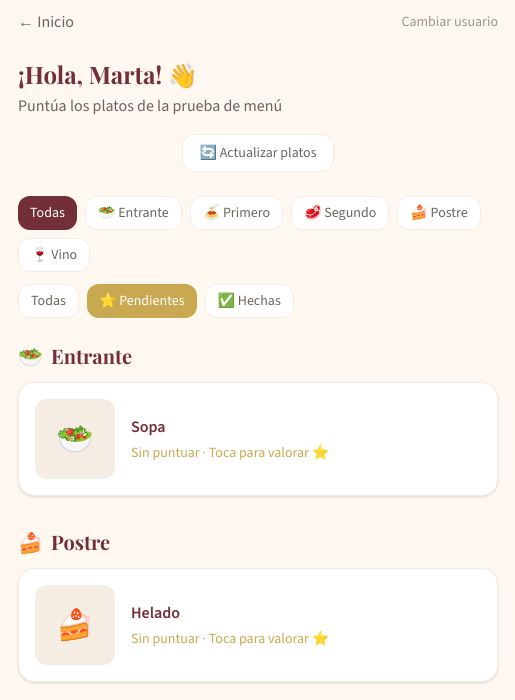
Test: GuestDashboard › category filter shows only dishes of that category
Expected: the text "Sopa" is shown, [131,416,166,437]
The filter button is the one in the flex-wrap gap-2 container
Click the button "🍰 Postre" at point(439, 213), box [397,196,481,230]
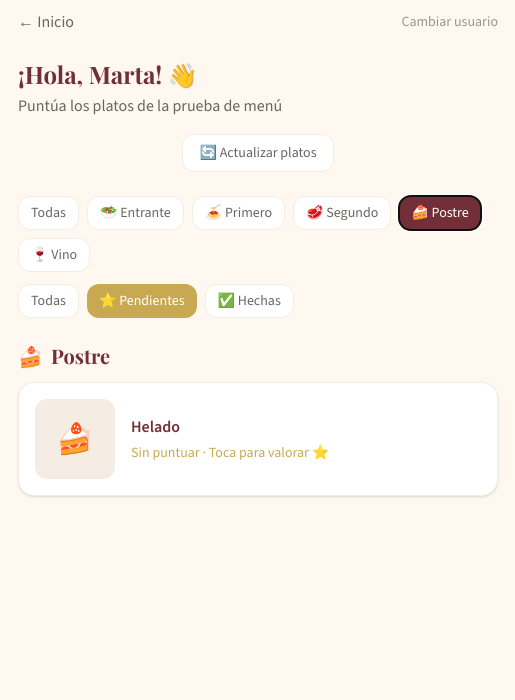
Expected: the text "Helado" is shown, [131,416,180,437]
Result: the button "Sopa" is gone
Click on Todas to reset - get first "Todas" which is the category filter
Click the 1st button "Todas" at point(48, 213), box [18,196,79,230]
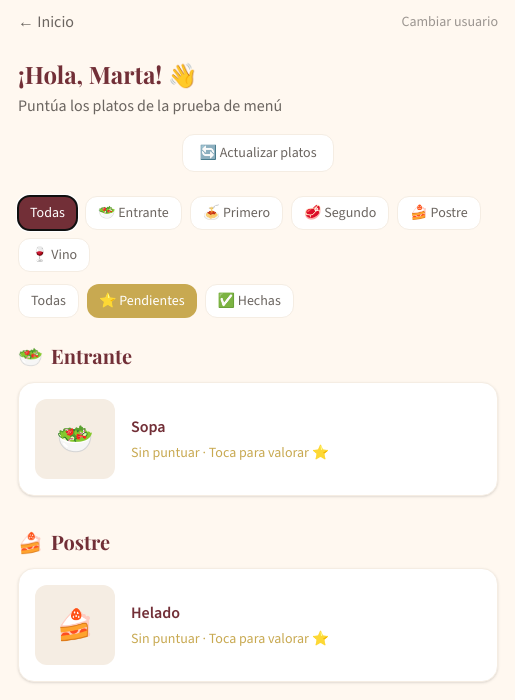
Expected: the text "Helado" is shown, [131,602,180,623]
Result: the text "Sopa" is shown at [131,416,166,437]
